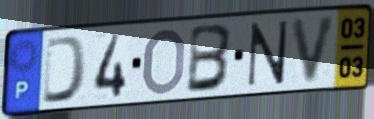4: (91, 30, 129, 101)
B: (184, 22, 236, 96)
D: (40, 34, 90, 107)
N: (245, 18, 291, 89)
O: (140, 26, 188, 97)
V: (289, 13, 340, 86)
